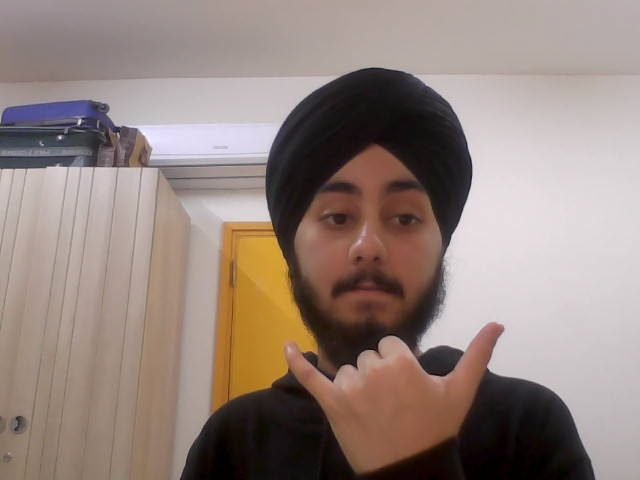Wrong: (271, 313, 505, 467)
